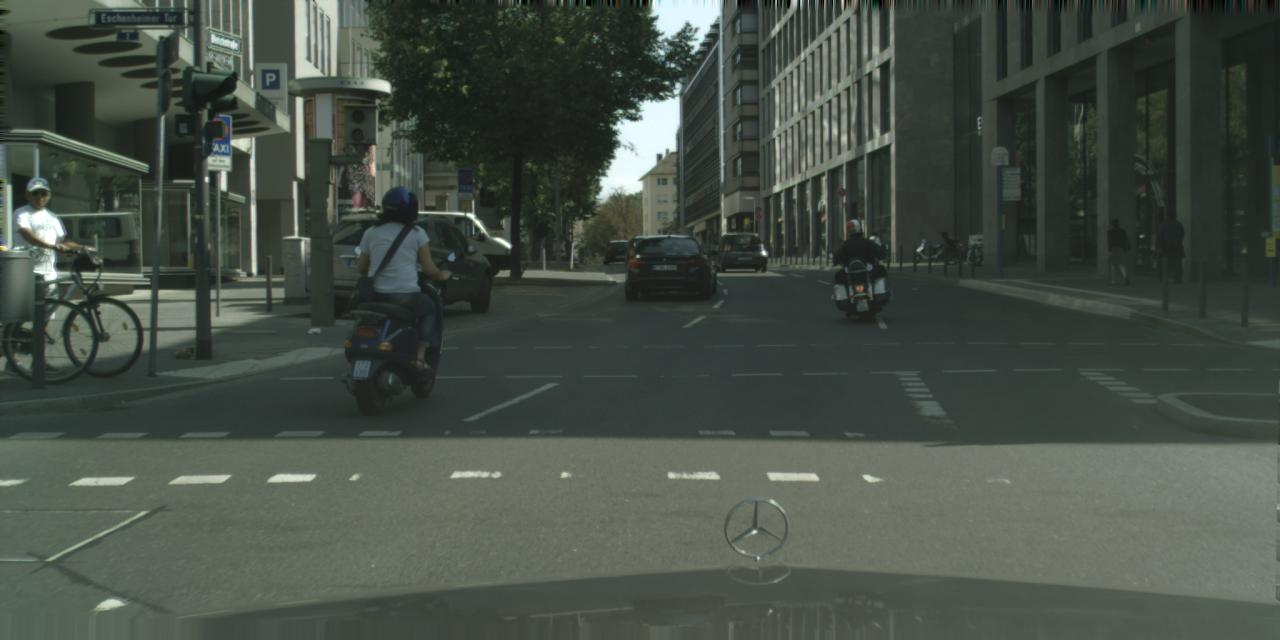ped: (0, 177, 74, 373), (358, 184, 434, 370), (842, 220, 872, 293), (1154, 210, 1184, 281), (1104, 219, 1130, 284), (868, 231, 882, 266)
